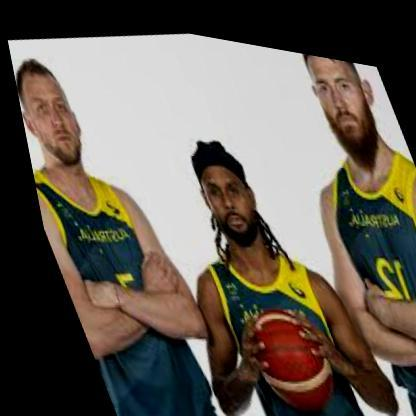basketball: (222, 288, 335, 416)
